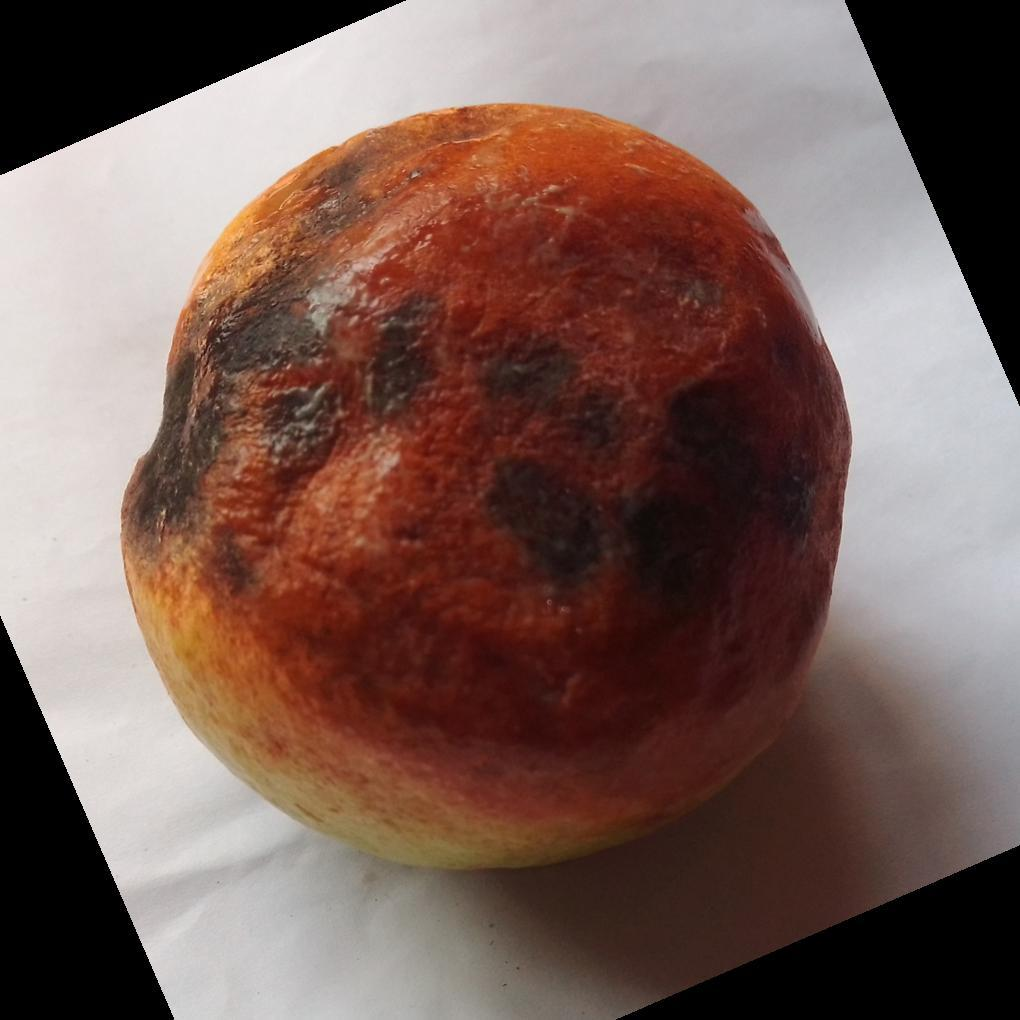FreshOrange: (118, 104, 853, 877)
